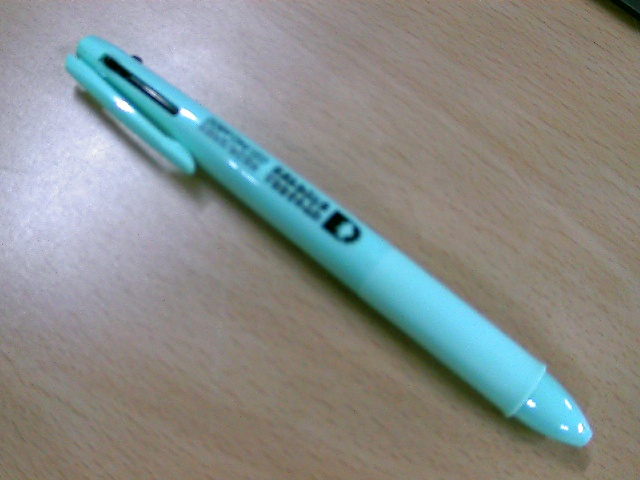pen: (48, 14, 622, 479)
